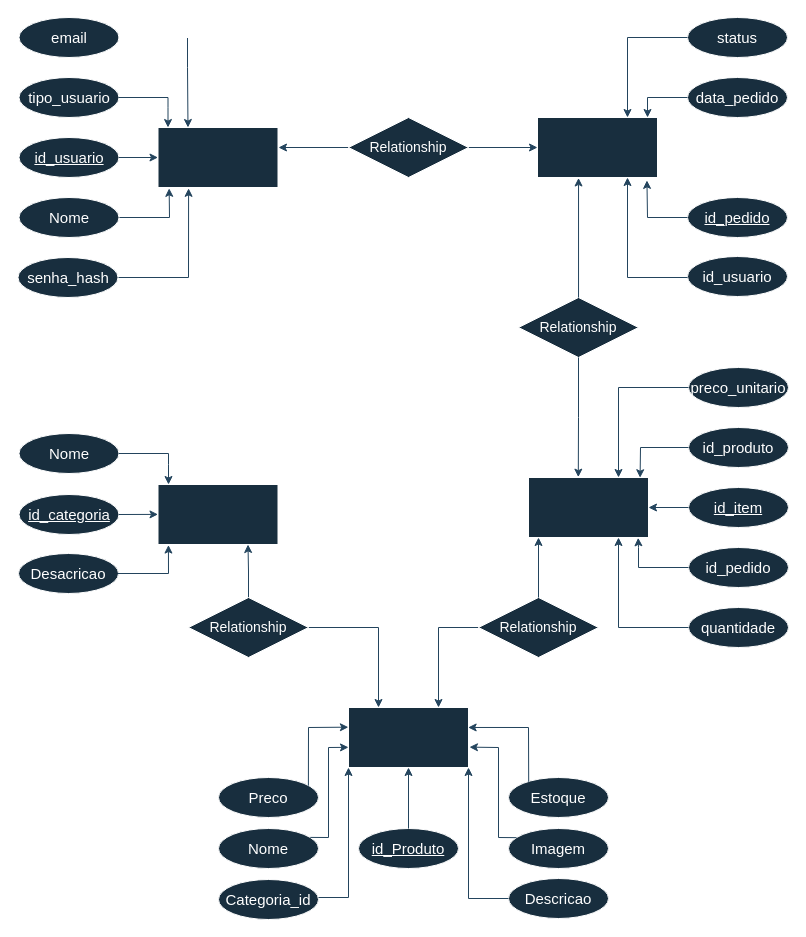
Image size: 806x937. Some labels were removed from this diagram. Here are the shapes that lost their labels. From the top down, the box of each, then its label:
(157, 126, 278, 188): usuario
(536, 116, 658, 178): Pedido
(157, 484, 278, 544): Categoria
(528, 476, 648, 538): Item_pedido
(348, 706, 468, 768): Produto
